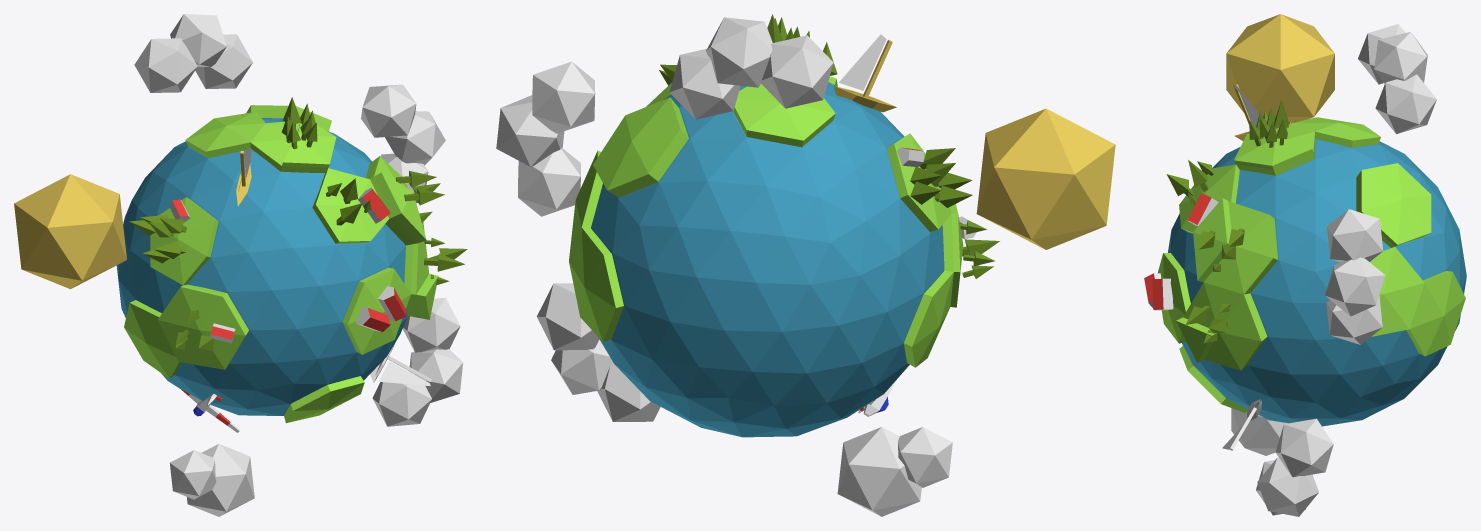
The model's file is Planet.glb.
3 renders of one model, left to right at view 1: azimuth 30°, elevation 25°; view 2: azimuth 150°, elevation 25°; view 3: azimuth 270°, elevation 25°, orthographic. The views are drawn at different scales.
Parts seen in each view (by area): view 1: Icosphere.001, Icosphere, Icosphere.013, Icosphere.009, Icosphere.010, Icosphere.011, Icosphere.012, Icosphere.006, Icosphere.003, Icosphere.007, Icosphere.008, Icosphere.005 (+2 smaller); view 2: Icosphere.001, Icosphere, Icosphere.013, Icosphere.009, Icosphere.011, Icosphere.012, Icosphere.010, Icosphere.007, Icosphere.004, Icosphere.006; view 3: Icosphere.001, Icosphere, Icosphere.013, Icosphere.011, Icosphere.009, Icosphere.010, Icosphere.006, Icosphere.012, Icosphere.003, Icosphere.005, Icosphere.004, Icosphere.008.
Boxes of the visible parts, box(x1,y1,x2,y2) form: Icosphere.001: box(116, 118, 407, 415); Icosphere: box(124, 105, 438, 423); Icosphere.013: box(14, 174, 126, 289); Icosphere.009: box(134, 14, 252, 92); Icosphere.010: box(372, 297, 463, 426); Icosphere.011: box(361, 84, 445, 203); Icosphere.012: box(169, 444, 254, 516); Icosphere.006: box(175, 170, 467, 350); Icosphere.003: box(169, 187, 406, 343); Icosphere.007: box(129, 215, 186, 263); Icosphere.008: box(370, 344, 431, 386); Icosphere.005: box(281, 103, 317, 149); Icosphere.001: box(591, 82, 944, 437); Icosphere: box(569, 76, 963, 367); Icosphere.013: box(976, 108, 1115, 249); Icosphere.009: box(669, 17, 833, 119); Icosphere.011: box(496, 61, 595, 216); Icosphere.012: box(837, 427, 952, 516); Icosphere.010: box(536, 283, 660, 421); Icosphere.007: box(910, 148, 972, 207); Icosphere.004: box(833, 34, 896, 112); Icosphere.006: box(659, 31, 999, 278); Icosphere.001: box(1168, 139, 1466, 426); Icosphere: box(1158, 117, 1465, 412); Icosphere.013: box(1226, 14, 1334, 123); Icosphere.011: box(1325, 209, 1385, 344); Icosphere.009: box(1358, 24, 1436, 133); Icosphere.010: box(1256, 418, 1333, 516); Icosphere.006: box(1166, 160, 1244, 343); Icosphere.012: box(1231, 408, 1287, 455); Icosphere.003: box(1144, 122, 1290, 310); Icosphere.005: box(1249, 108, 1287, 147); Icosphere.004: box(1233, 84, 1266, 140); Icosphere.008: box(1222, 399, 1261, 450).
Size of the model in its own units: 3.7 by 3.42 by 2.26.
